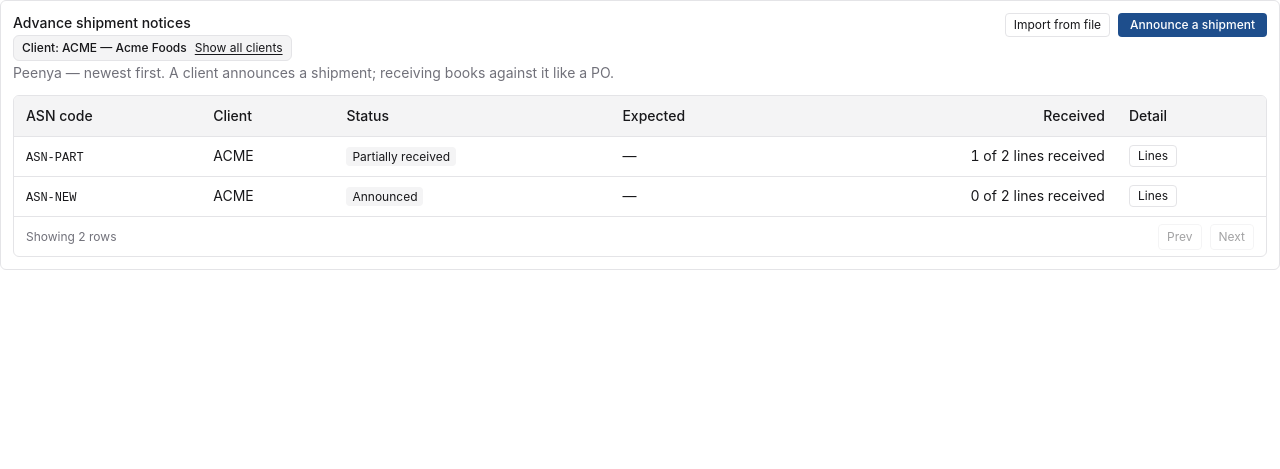
Test: AsnsCard › the client filter › the create form defaults its client to the active one
Click the button "Announce a shipment" at (1192, 25), box [1118,13,1267,37]
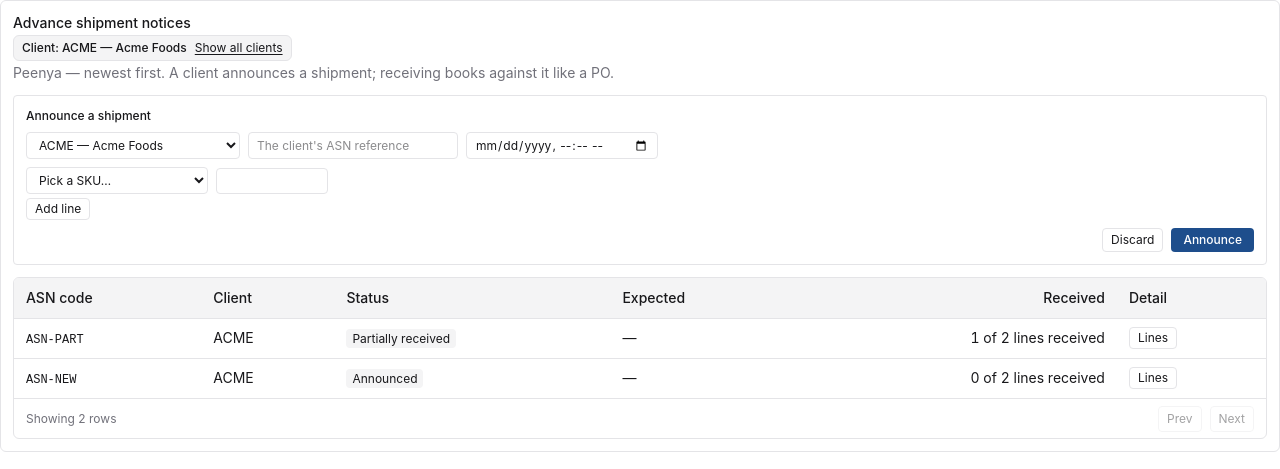
Now the dropdown named "Client" shows "ACME — Acme Foods", box [26,132,240,159]
